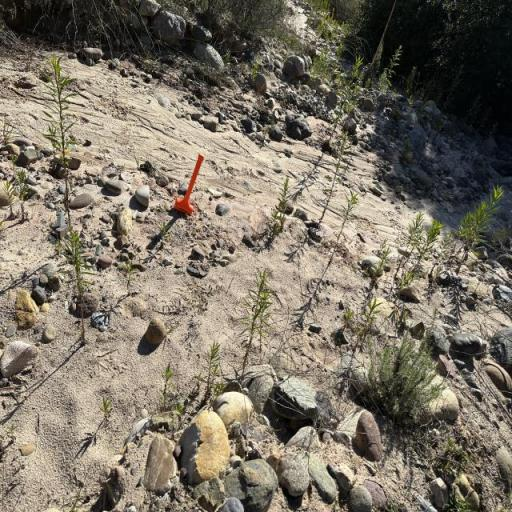mallet: (174, 154, 204, 215)
